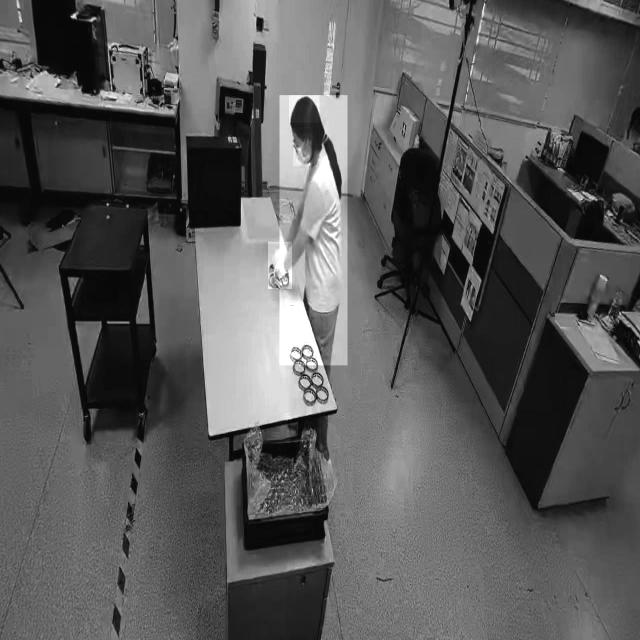face_mask: (293, 134, 313, 166)
hand_glove: (268, 242, 292, 290)
head_nohelmet: (289, 95, 320, 124)
person: (280, 95, 348, 366)
